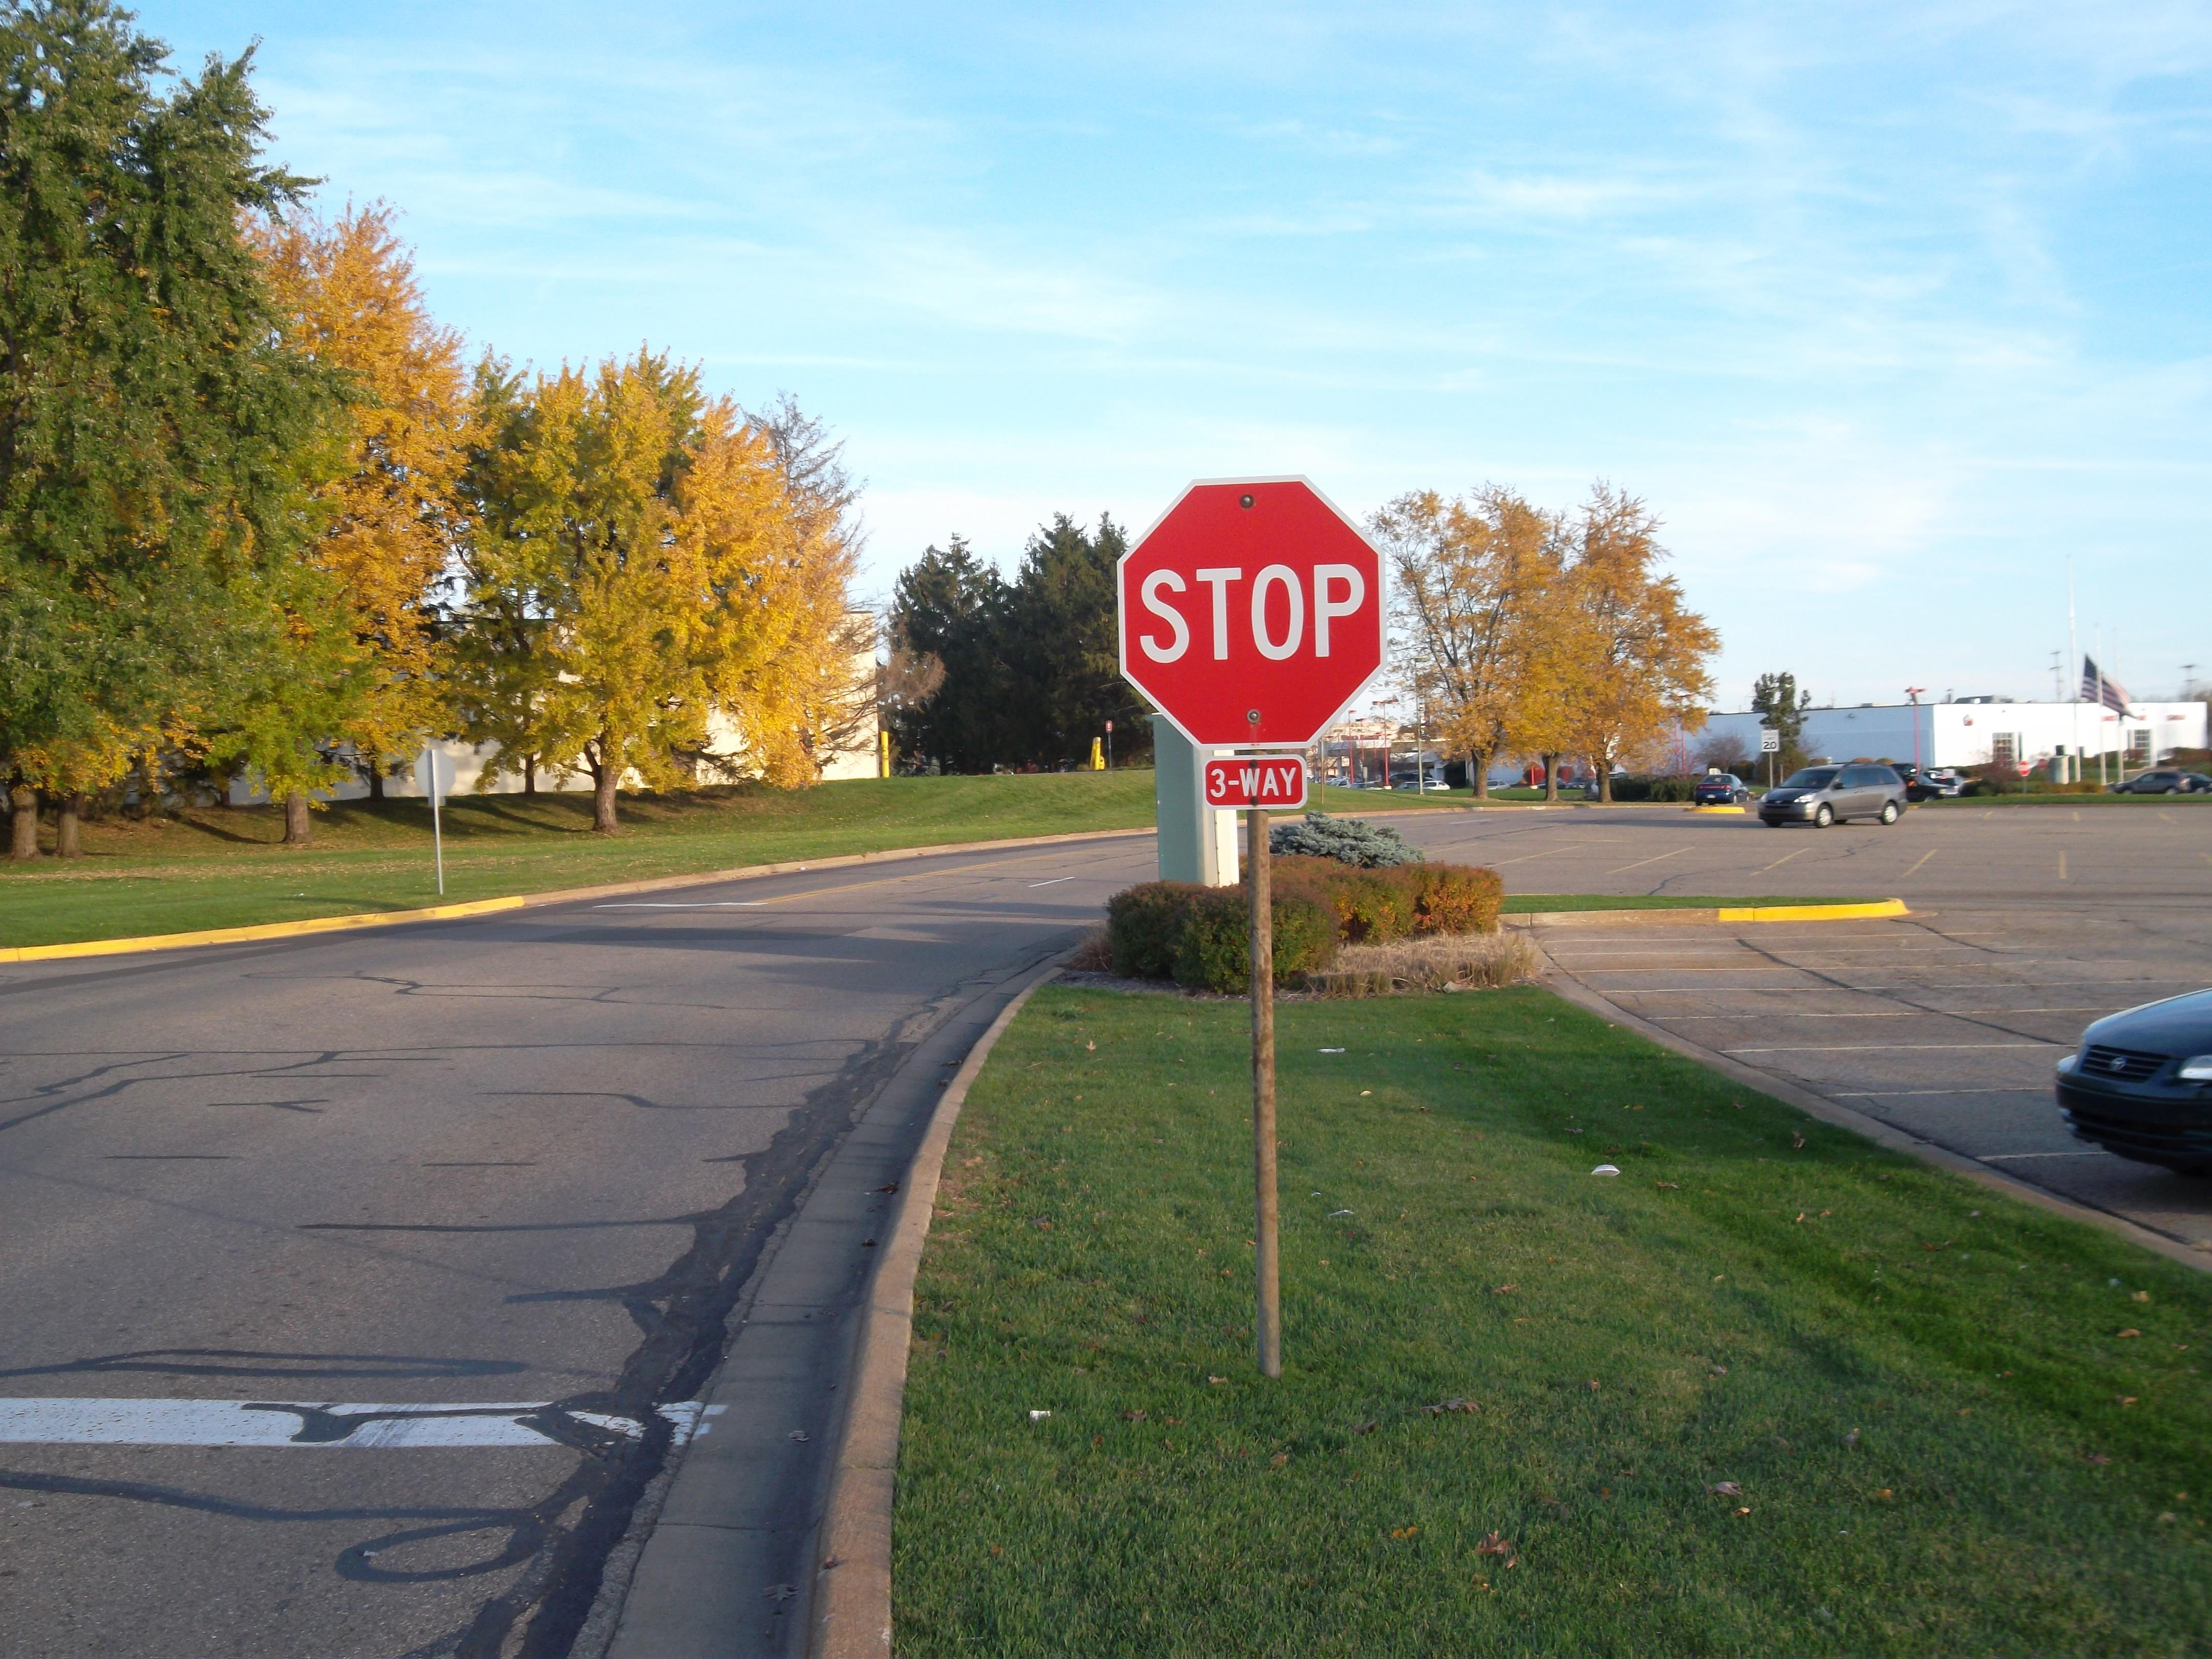stop: (1094, 469, 1409, 753)
